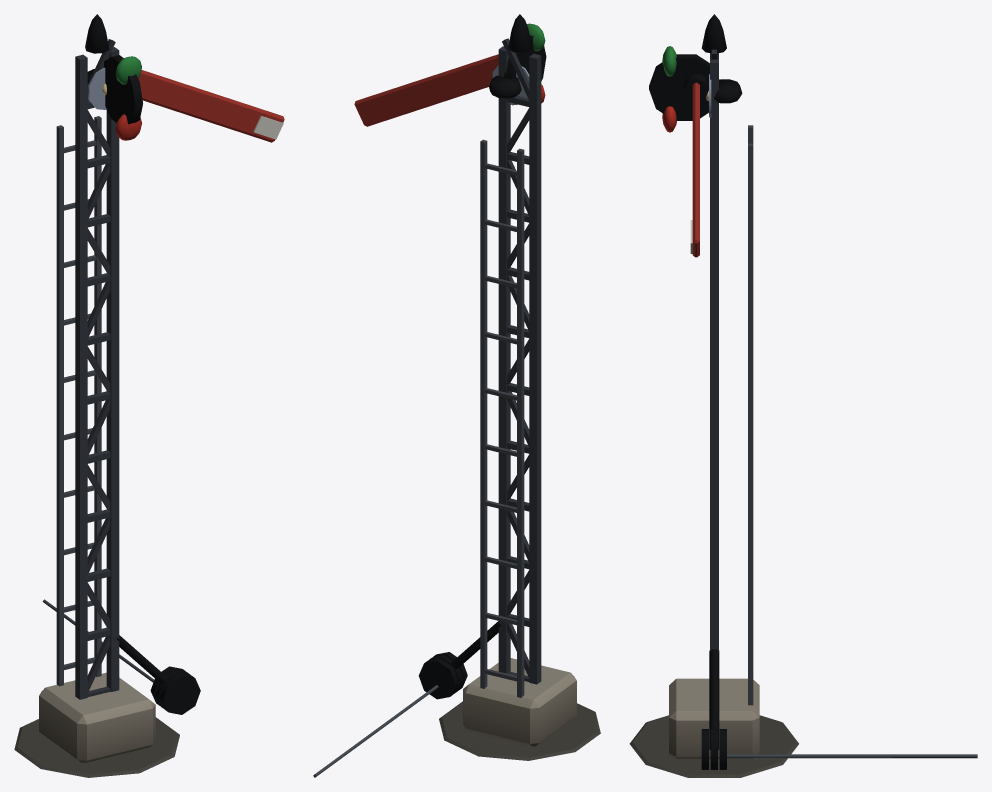
The model's file is semaphore-signal.glb.
3 views of the same model, side by side, from view 1: azimuth 30°, elevation 25°; view 2: azimuth 150°, elevation 25°; view 3: azimuth 270°, elevation 25° (orthographic). The views are drawn at different scales.
Visible parts, largest first — view 1: semaphore_signal; view 2: semaphore_signal; view 3: semaphore_signal.
Part boxes in pixels (x1,y1,x2,y2): semaphore_signal: (14, 14, 284, 777); semaphore_signal: (313, 14, 600, 777); semaphore_signal: (629, 14, 977, 777).
Size of the model in its own units: 1.58 by 4.44 by 1.92.
